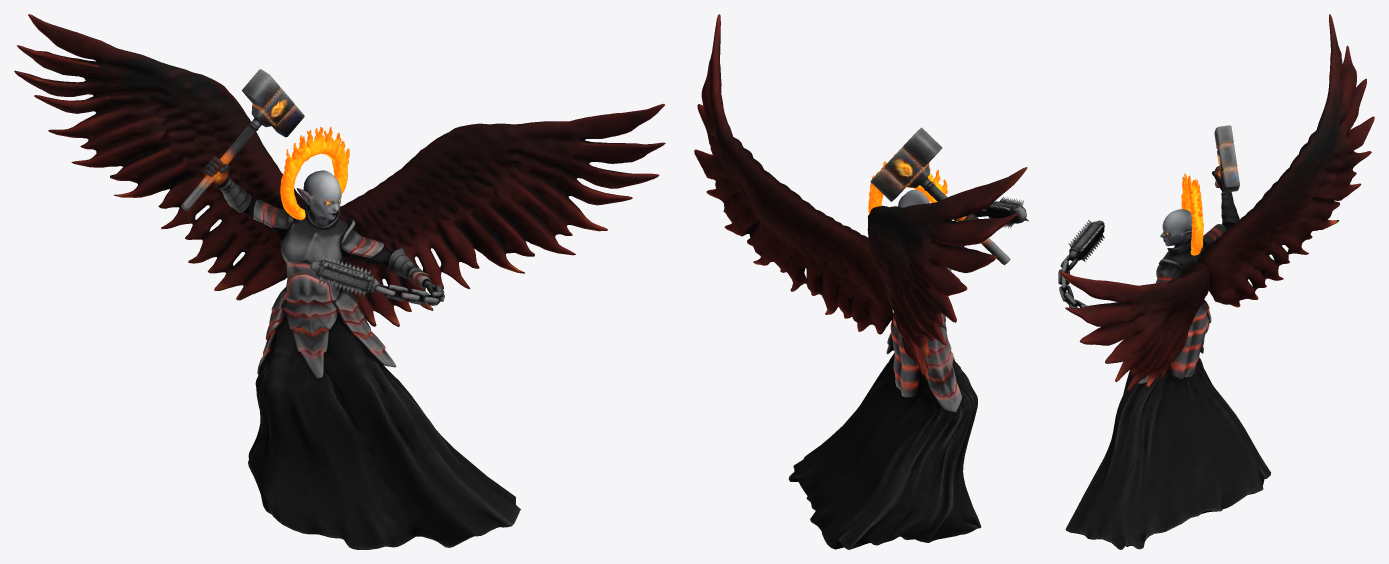
File: MZ4250 - Archduke Zariel of Avernus.glb
The picture shows the model from 3 angles, left to right: view 1: azimuth 30°, elevation 25°; view 2: azimuth 150°, elevation 25°; view 3: azimuth 270°, elevation 25°; orthographic projection. The views are drawn at different scales.
Visible parts, largest first — view 1: Base.003; view 2: Base.003; view 3: Base.003.
Part boxes in pixels (bbox=[...]): Base.003: bbox=[14, 14, 665, 549]; Base.003: bbox=[694, 14, 1029, 549]; Base.003: bbox=[1058, 14, 1374, 549].
Size of the model in its own units: 107 by 106 by 74.53.
Materials: 3 (3 with a texture image).
